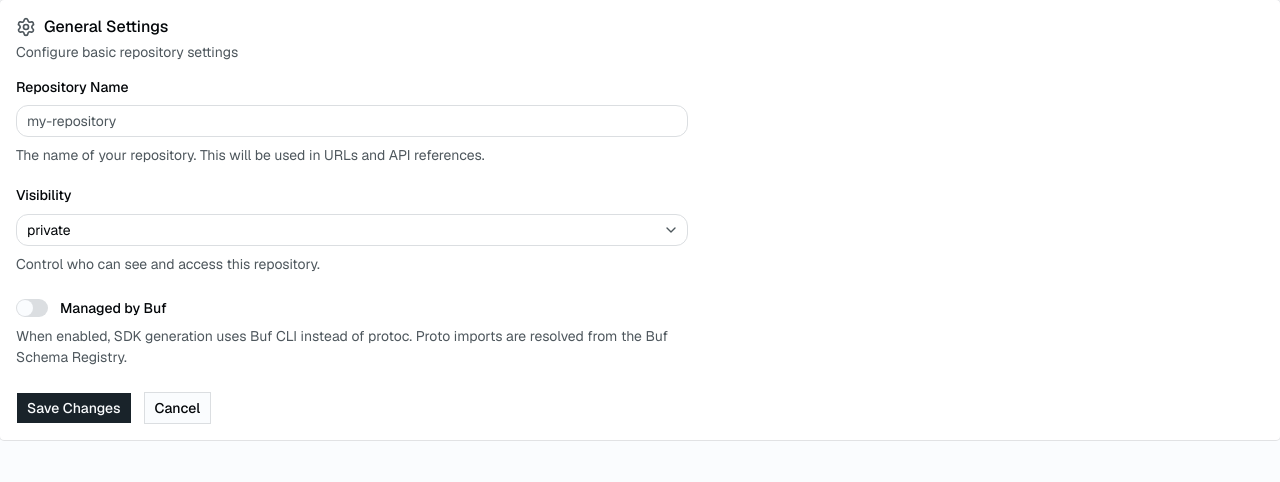
Test: RepositorySettingsForm › Form Validation - Repository Name › shows error when repository name is empty
The width and height of the screenshot is (1280, 482).
What coordinates should you click on to do the following:
click the button "Save Changes"
I would click on:
 (74, 408)
Its box is [16,392,132,424].
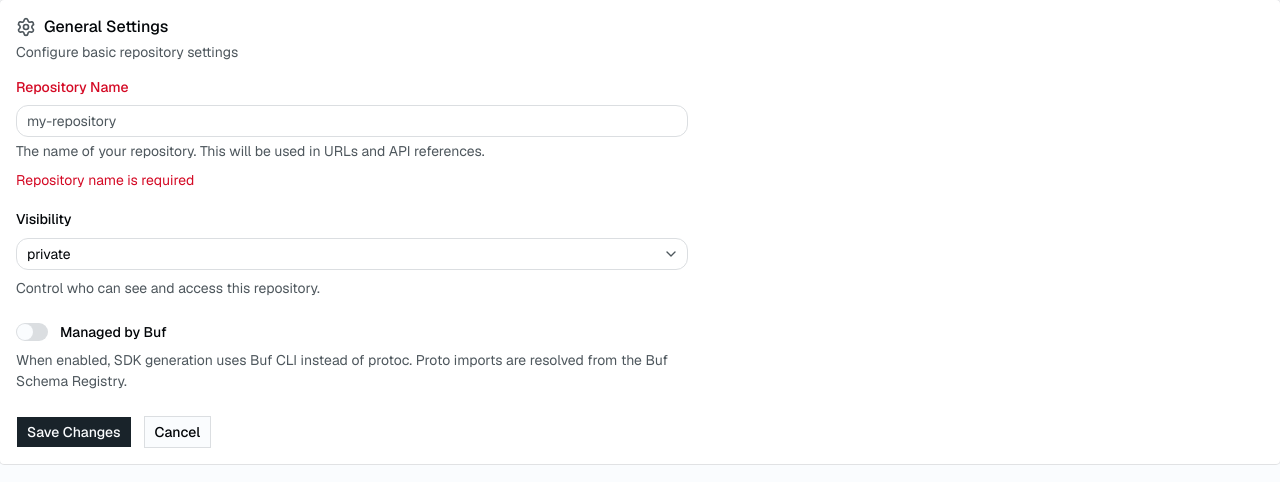
Check: the text "Repository name is required" is shown, box [16,171,194,189]
